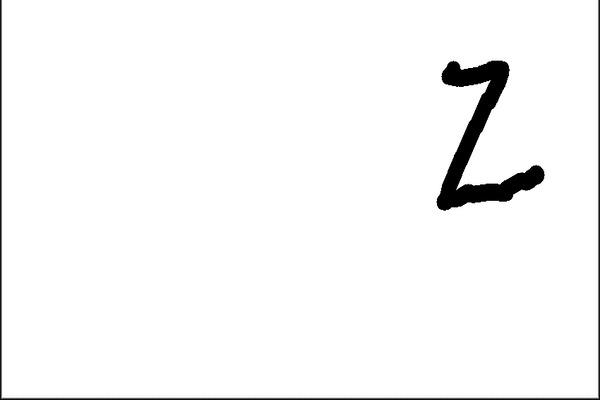Z: (423, 53, 562, 215)
